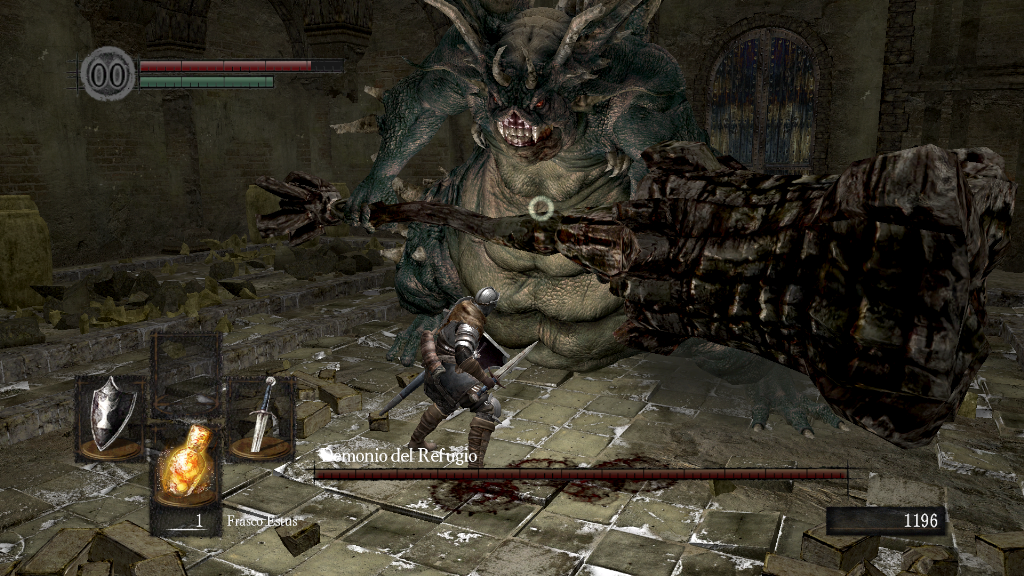asylumDemon: (248, 3, 1019, 448)
bossHP: (314, 469, 847, 479)
health: (138, 58, 343, 71)
humanity: (80, 45, 136, 102)
player: (407, 287, 542, 464)
souls: (825, 506, 945, 536)
stamina: (138, 74, 274, 88)
